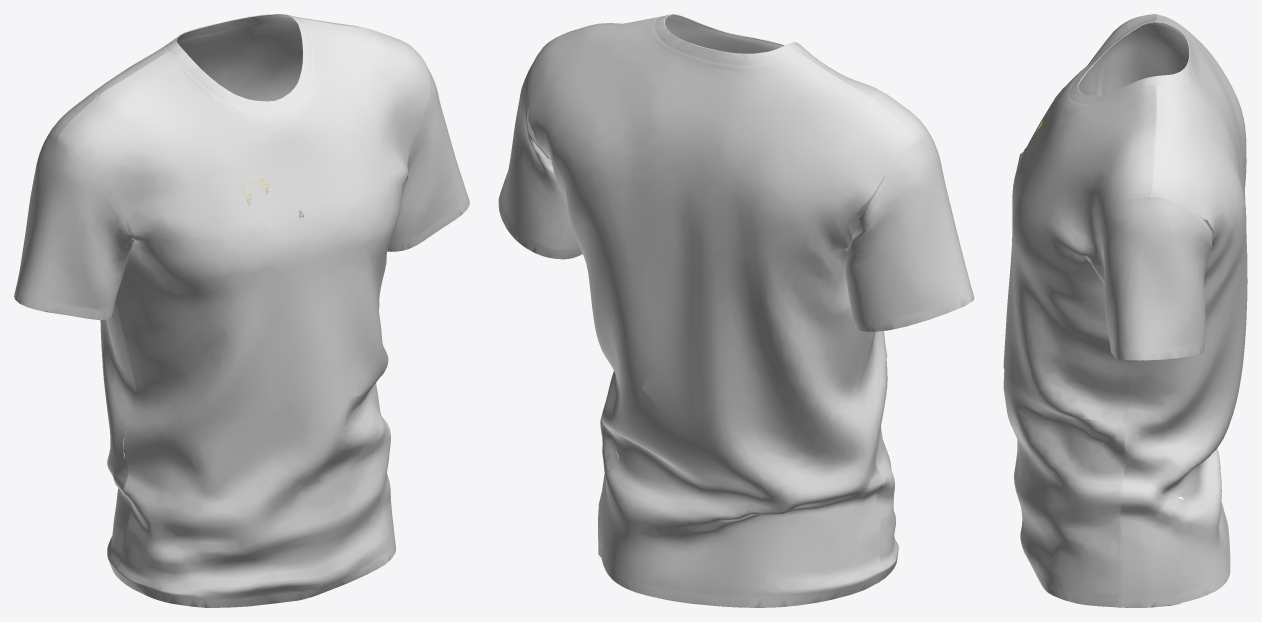
3 views of the same model, side by side, from view 1: azimuth 30°, elevation 25°; view 2: azimuth 150°, elevation 25°; view 3: azimuth 270°, elevation 25° (orthographic). The views are drawn at different scales.
Size of the model in its own units: 0.5502 by 0.613 by 0.2681.
7 materials, 1 textured.
